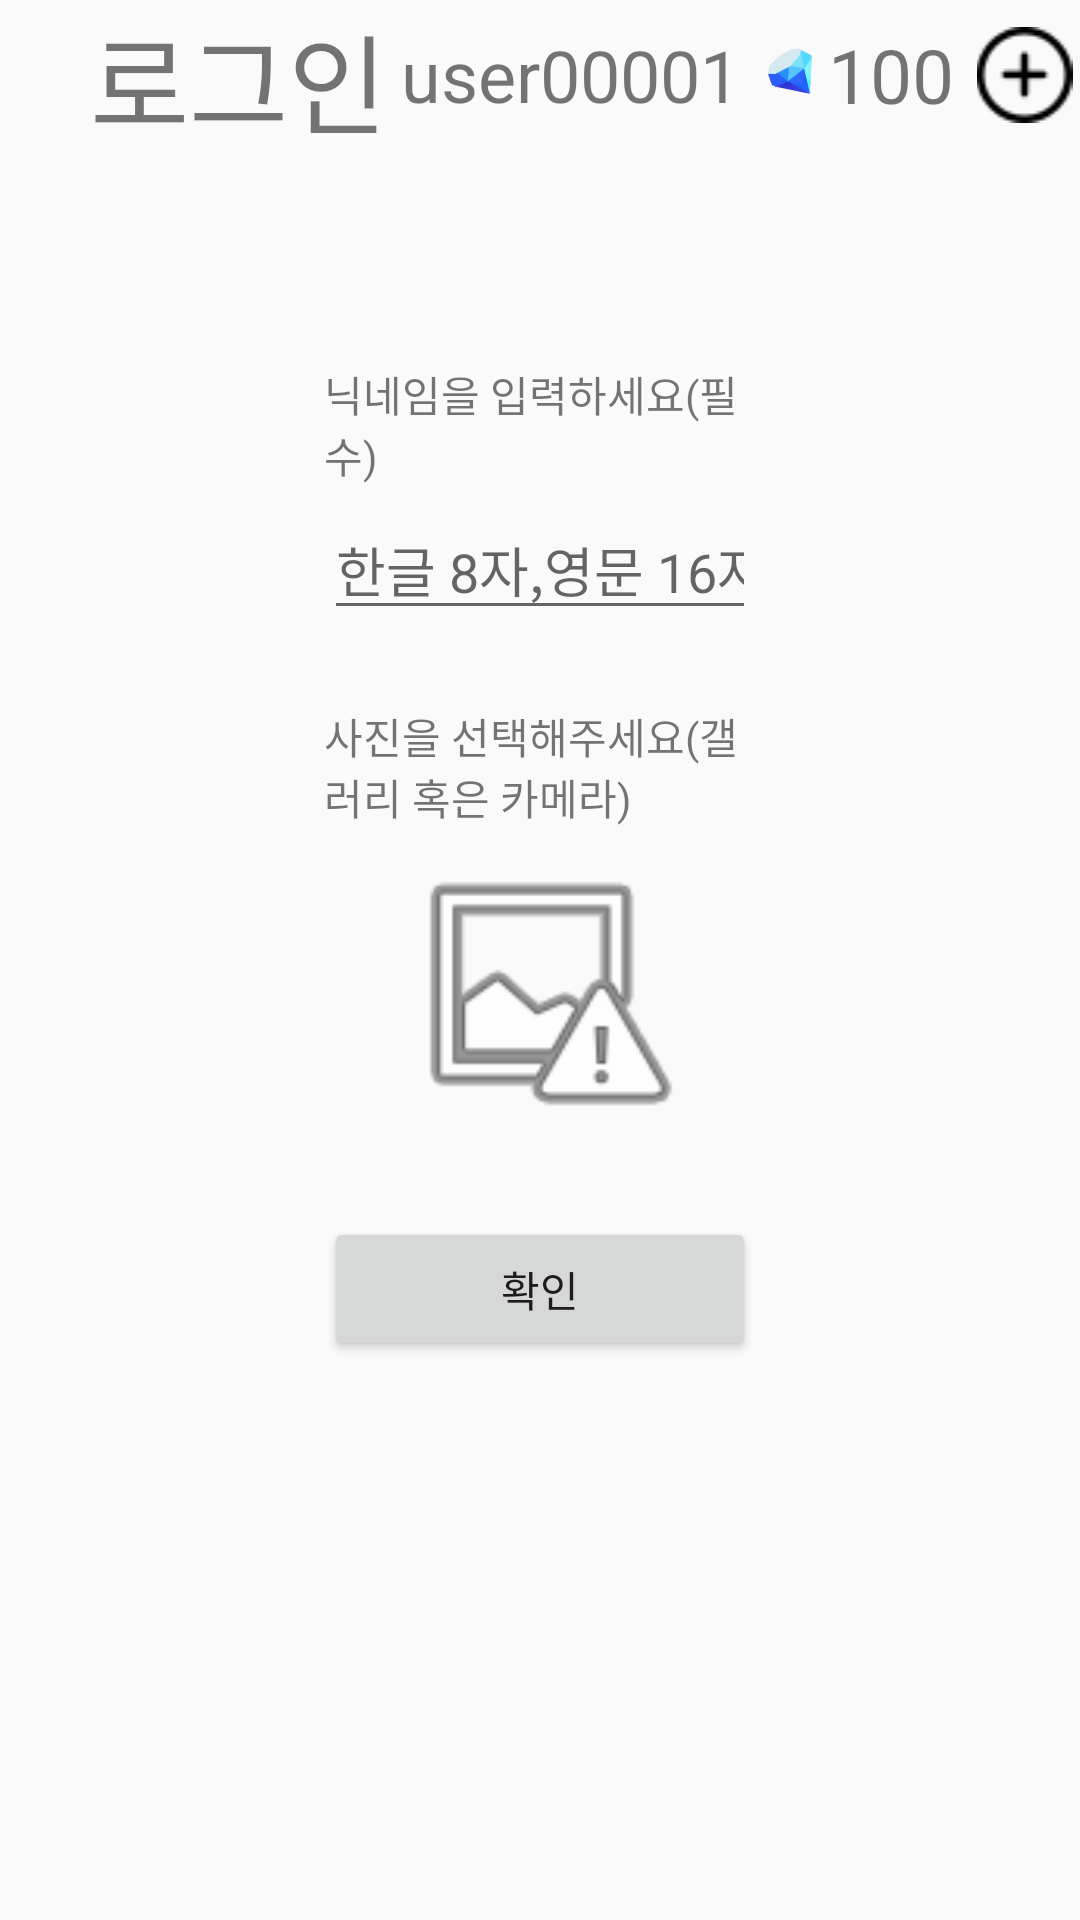

Screen size 1080*1920. Icon name, then its box in pixels as (x1, y1, x2, y2):
diamond: (768, 49, 812, 94)
plus: (977, 27, 1073, 123)
